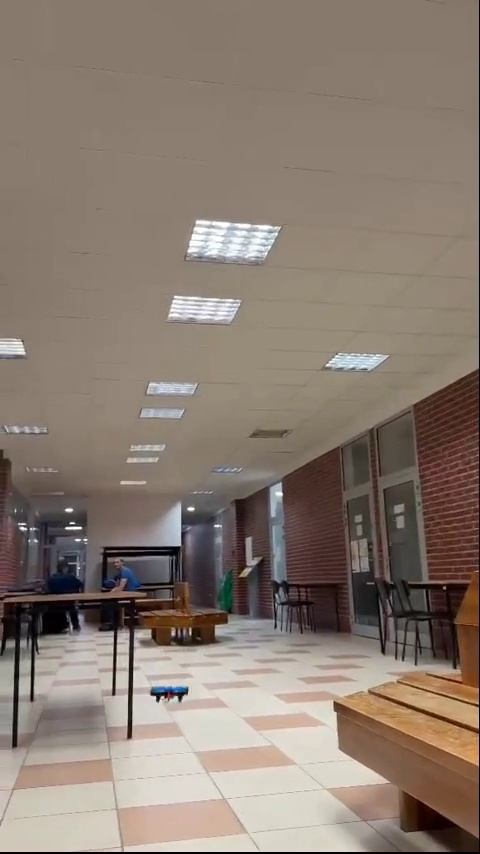drone: (152, 686, 191, 704)
no vest: (36, 553, 83, 628), (110, 554, 137, 614)
